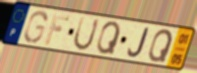F: (43, 13, 71, 47)
G: (22, 10, 48, 45)
J: (126, 27, 150, 59)
Q: (95, 20, 123, 56), (147, 28, 174, 64)
U: (72, 15, 102, 52)
